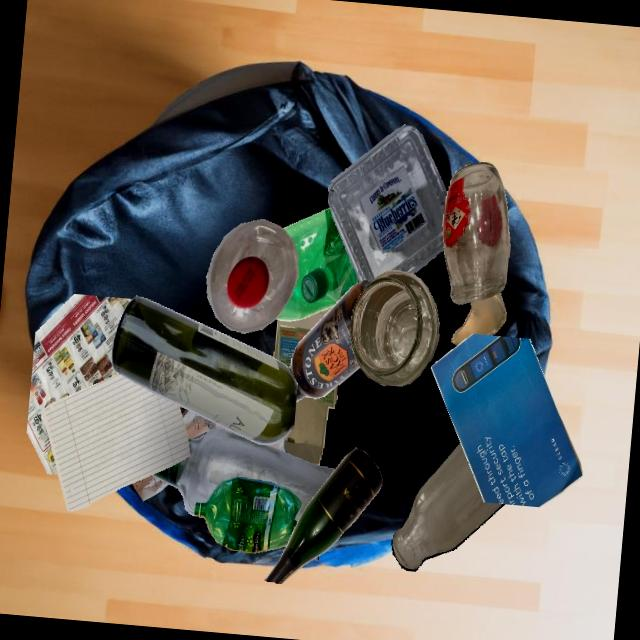cardboard: (284, 386, 337, 464), (273, 306, 333, 369)
glass: (111, 295, 297, 444), (151, 428, 335, 522), (263, 447, 382, 583), (391, 441, 504, 570), (350, 269, 439, 386), (288, 279, 370, 402), (442, 161, 510, 304), (451, 292, 506, 345)
paper: (431, 333, 583, 507), (43, 373, 189, 511), (26, 293, 132, 474), (170, 422, 266, 484), (130, 474, 170, 501)
plastic: (328, 124, 447, 282), (206, 218, 298, 333), (275, 207, 358, 321), (193, 476, 301, 553)
